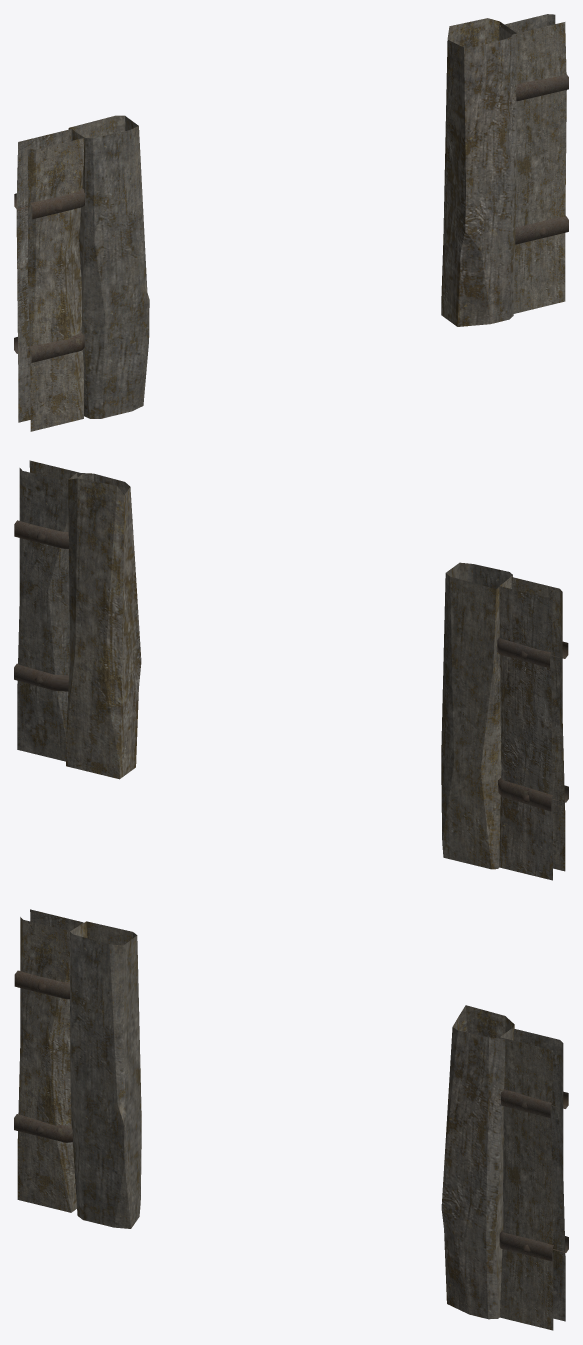
Rendered from gate_supports.fbx.
3 renders of one model, top to bottom at view 1: azimuth 30°, elevation 25°; view 2: azimuth 150°, elevation 25°; view 3: azimuth 330°, elevation 25°, orthographic.
Parts seen in each view (by area): view 1: gate_supports; view 2: gate_supports; view 3: gate_supports.
Boxes of the visible parts, x1,y1,x2,y2 form: gate_supports: (14,14,568,431); gate_supports: (14,460,568,880); gate_supports: (14,909,568,1330).
Size of the model in its own units: 201 by 104 by 15.95.
